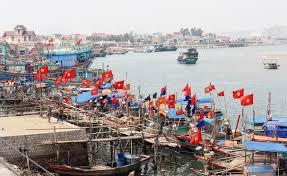tau_dansu: (188, 127, 286, 176), (33, 45, 96, 77), (174, 48, 205, 65)
